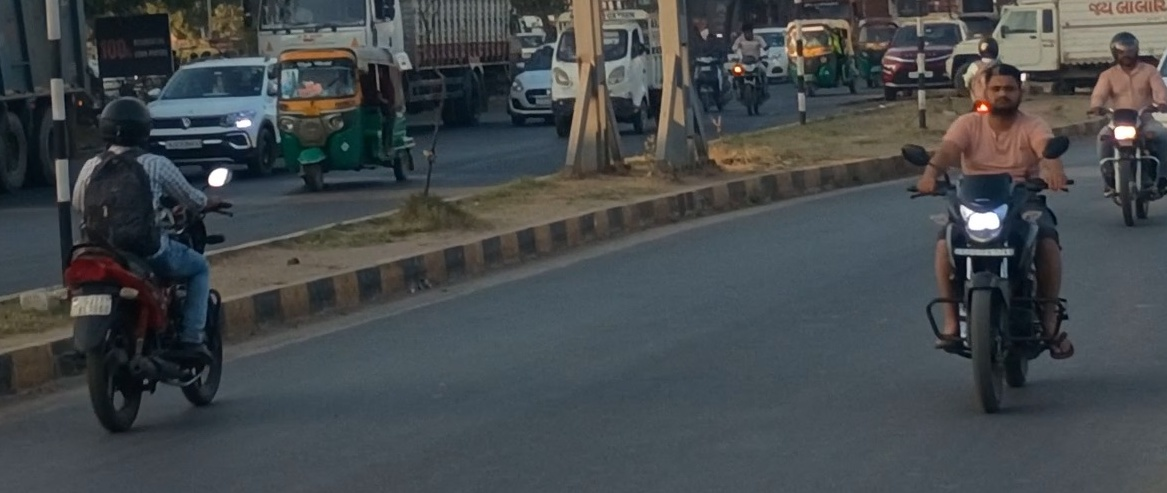BikeWithRider: (41, 85, 291, 443), (887, 50, 1096, 424), (1071, 9, 1167, 241)
Helmet: (90, 89, 165, 163), (1103, 23, 1147, 83)
NoHelmet: (975, 55, 1039, 126)
